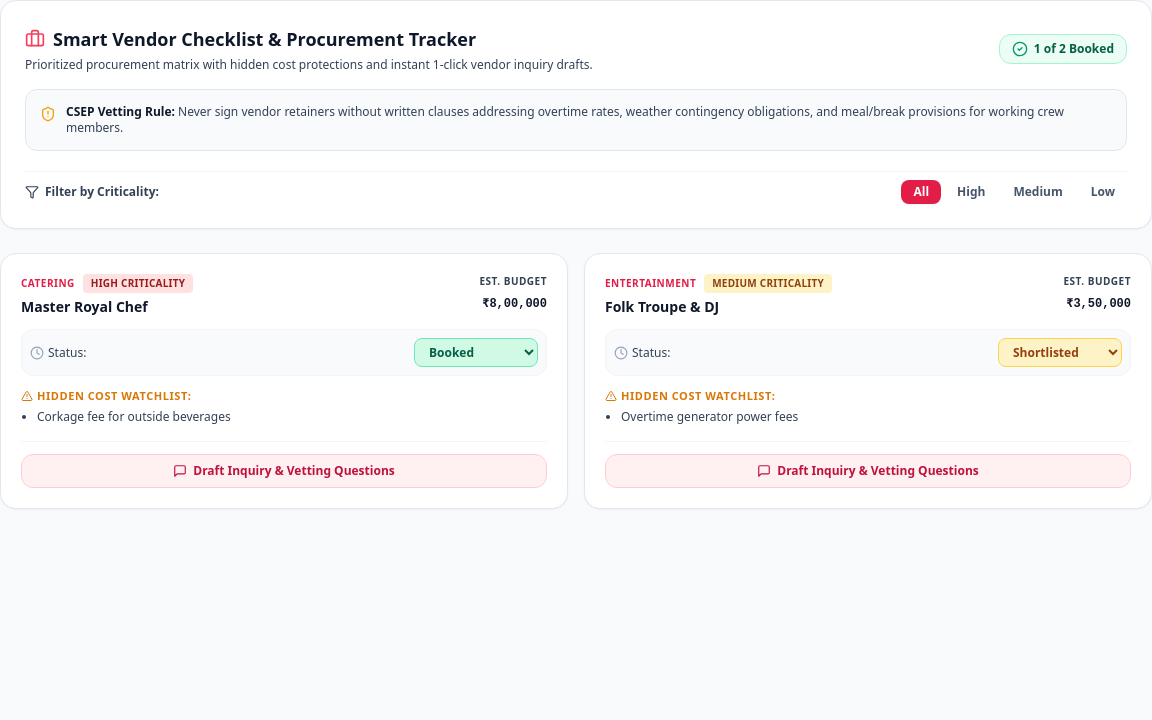
it: VendorEngine component › opens vendor inquiry draft modal on button click
The width and height of the screenshot is (1152, 720).
Click the button "Draft Inquiry & Vetting Questions" below "Corkage fee for outside beverages" at (284, 471), box [21,454,547,488]
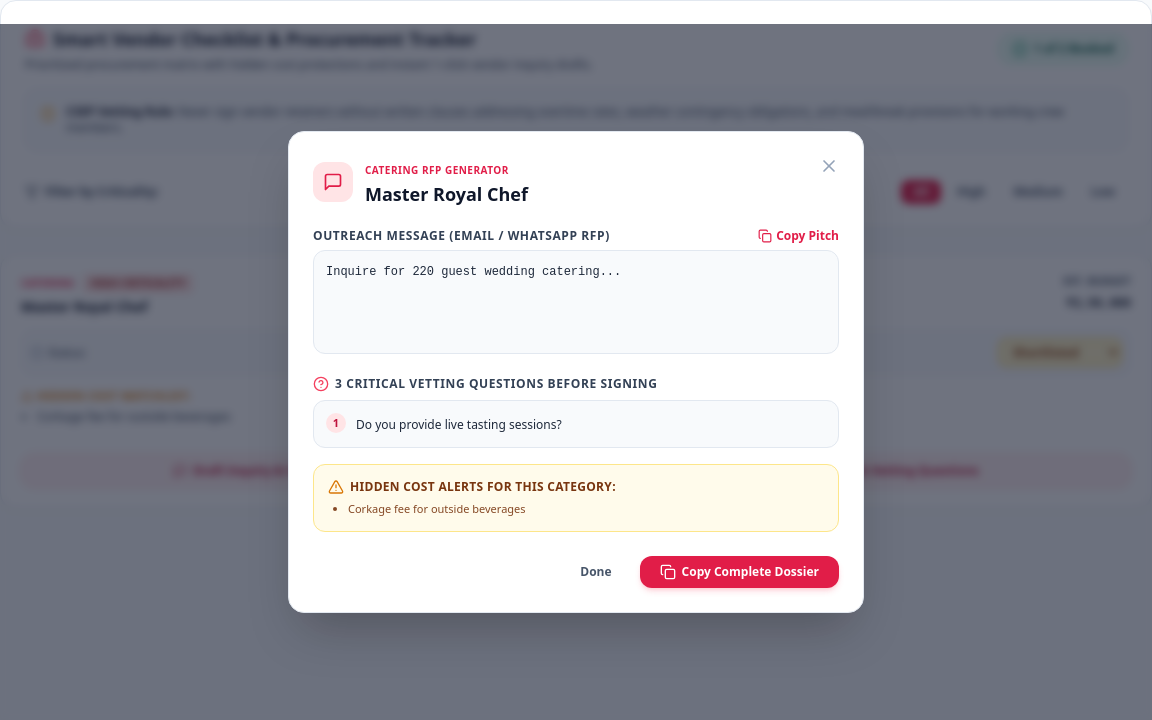
Check: the heading "Master Royal Chef" in the row of "₹8,00,000" is shown, box [21,297,148,316]
Check: the text "Catering RFP Generator" is shown, box [365,163,509,177]
